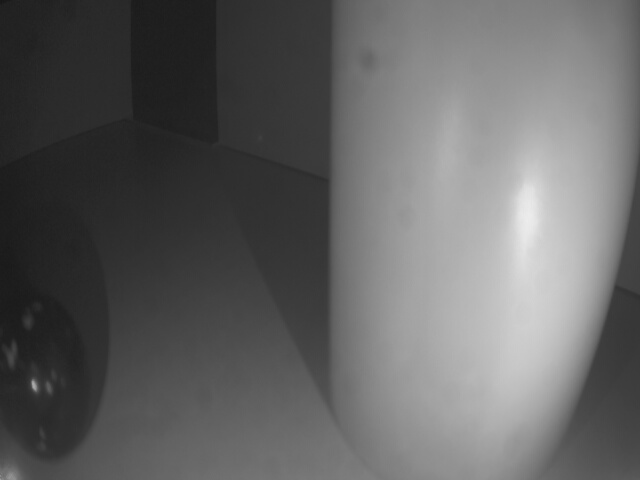Dead: (0, 289, 91, 457)
